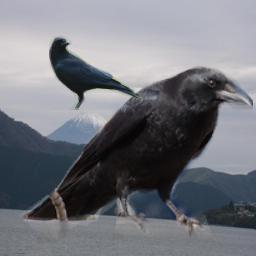Crow: (15, 64, 253, 243), (49, 35, 141, 110)
